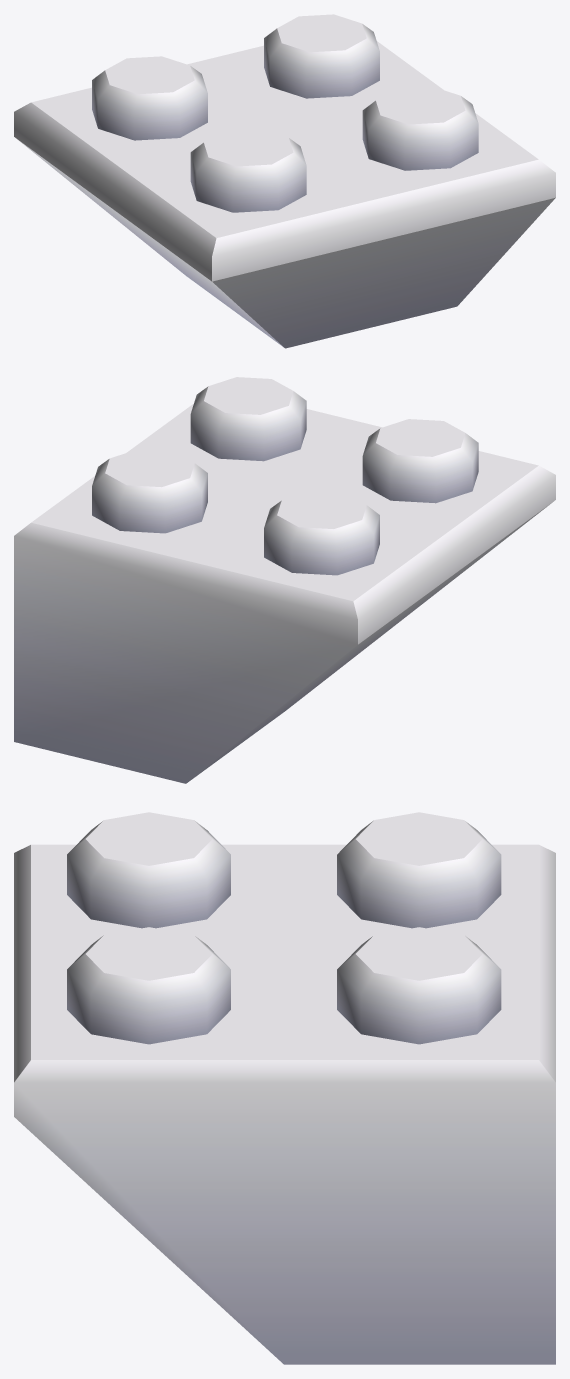
File: kenney-brick-round-hq-brick-slope-corner-outside-inverted-2-x-2.glb
3 renders of one model, top to bottom at view 1: azimuth 30°, elevation 25°; view 2: azimuth 150°, elevation 25°; view 3: azimuth 270°, elevation 25°, orthographic. The views are drawn at different scales.
Visible parts, largest first — view 1: round-hq-brick-slope-corner-outside-inverted-2x2; view 2: round-hq-brick-slope-corner-outside-inverted-2x2; view 3: round-hq-brick-slope-corner-outside-inverted-2x2.
Part boxes in pixels (left/top/right/bottom): round-hq-brick-slope-corner-outside-inverted-2x2: left=14, top=14, right=555, bottom=348; round-hq-brick-slope-corner-outside-inverted-2x2: left=14, top=377, right=555, bottom=783; round-hq-brick-slope-corner-outside-inverted-2x2: left=14, top=812, right=555, bottom=1364.
Size of the model in its own units: 0.159 by 0.114 by 0.1585.
1 material, 1 textured.
